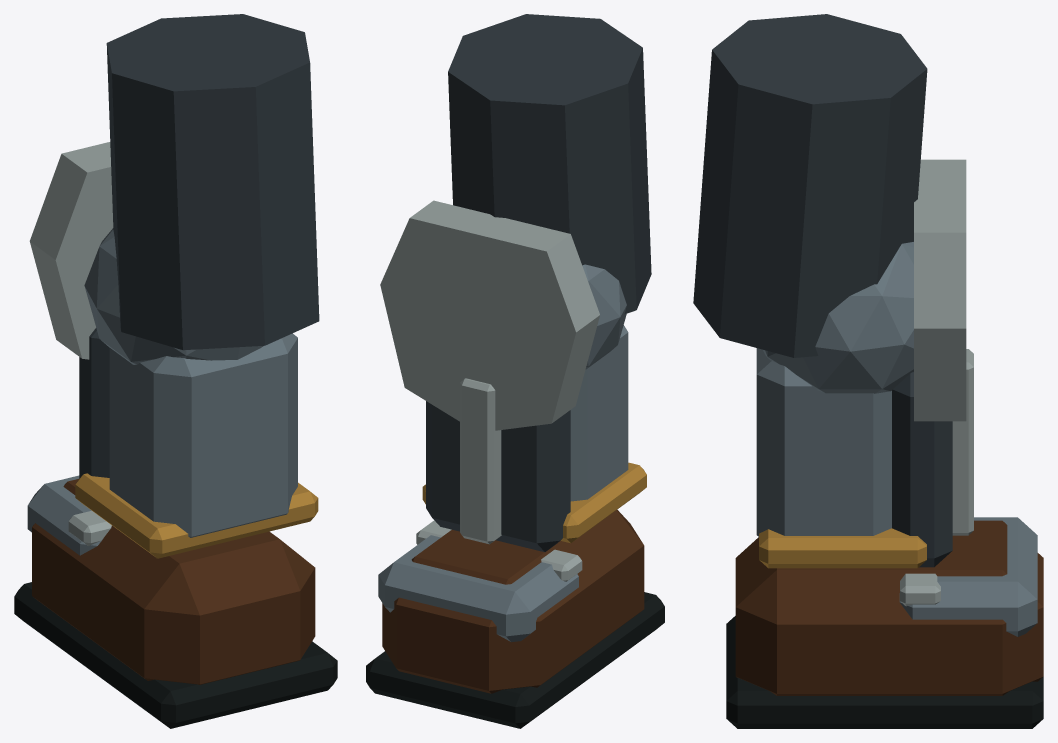
Rendered from LegLeft.glb.
3 views of the same model, side by side, from view 1: azimuth 30°, elevation 25°; view 2: azimuth 150°, elevation 25°; view 3: azimuth 270°, elevation 25° (orthographic). The views are drawn at different scales.
Parts seen in each view (by area): view 1: Sculpture; view 2: Sculpture; view 3: Sculpture.
Part boxes in pixels (<box>): Sculpture: <box>14,14,337,728</box>; Sculpture: <box>366,14,664,728</box>; Sculpture: <box>693,14,1043,728</box>.
Bounding box in the file's own units: 0.264 × 0.7542 × 0.3755.
